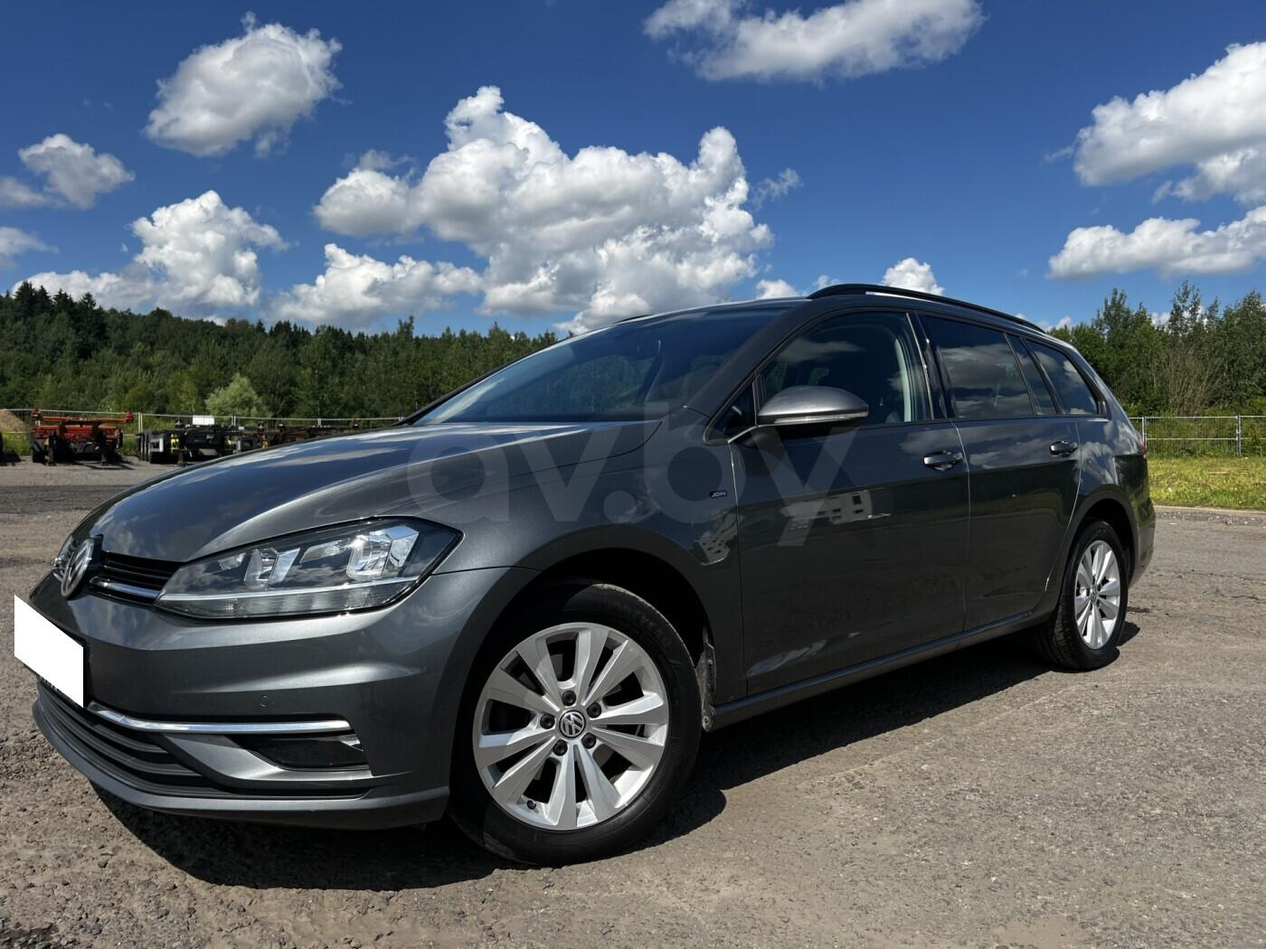Golf_2017-2021: (18, 284, 1155, 854)
